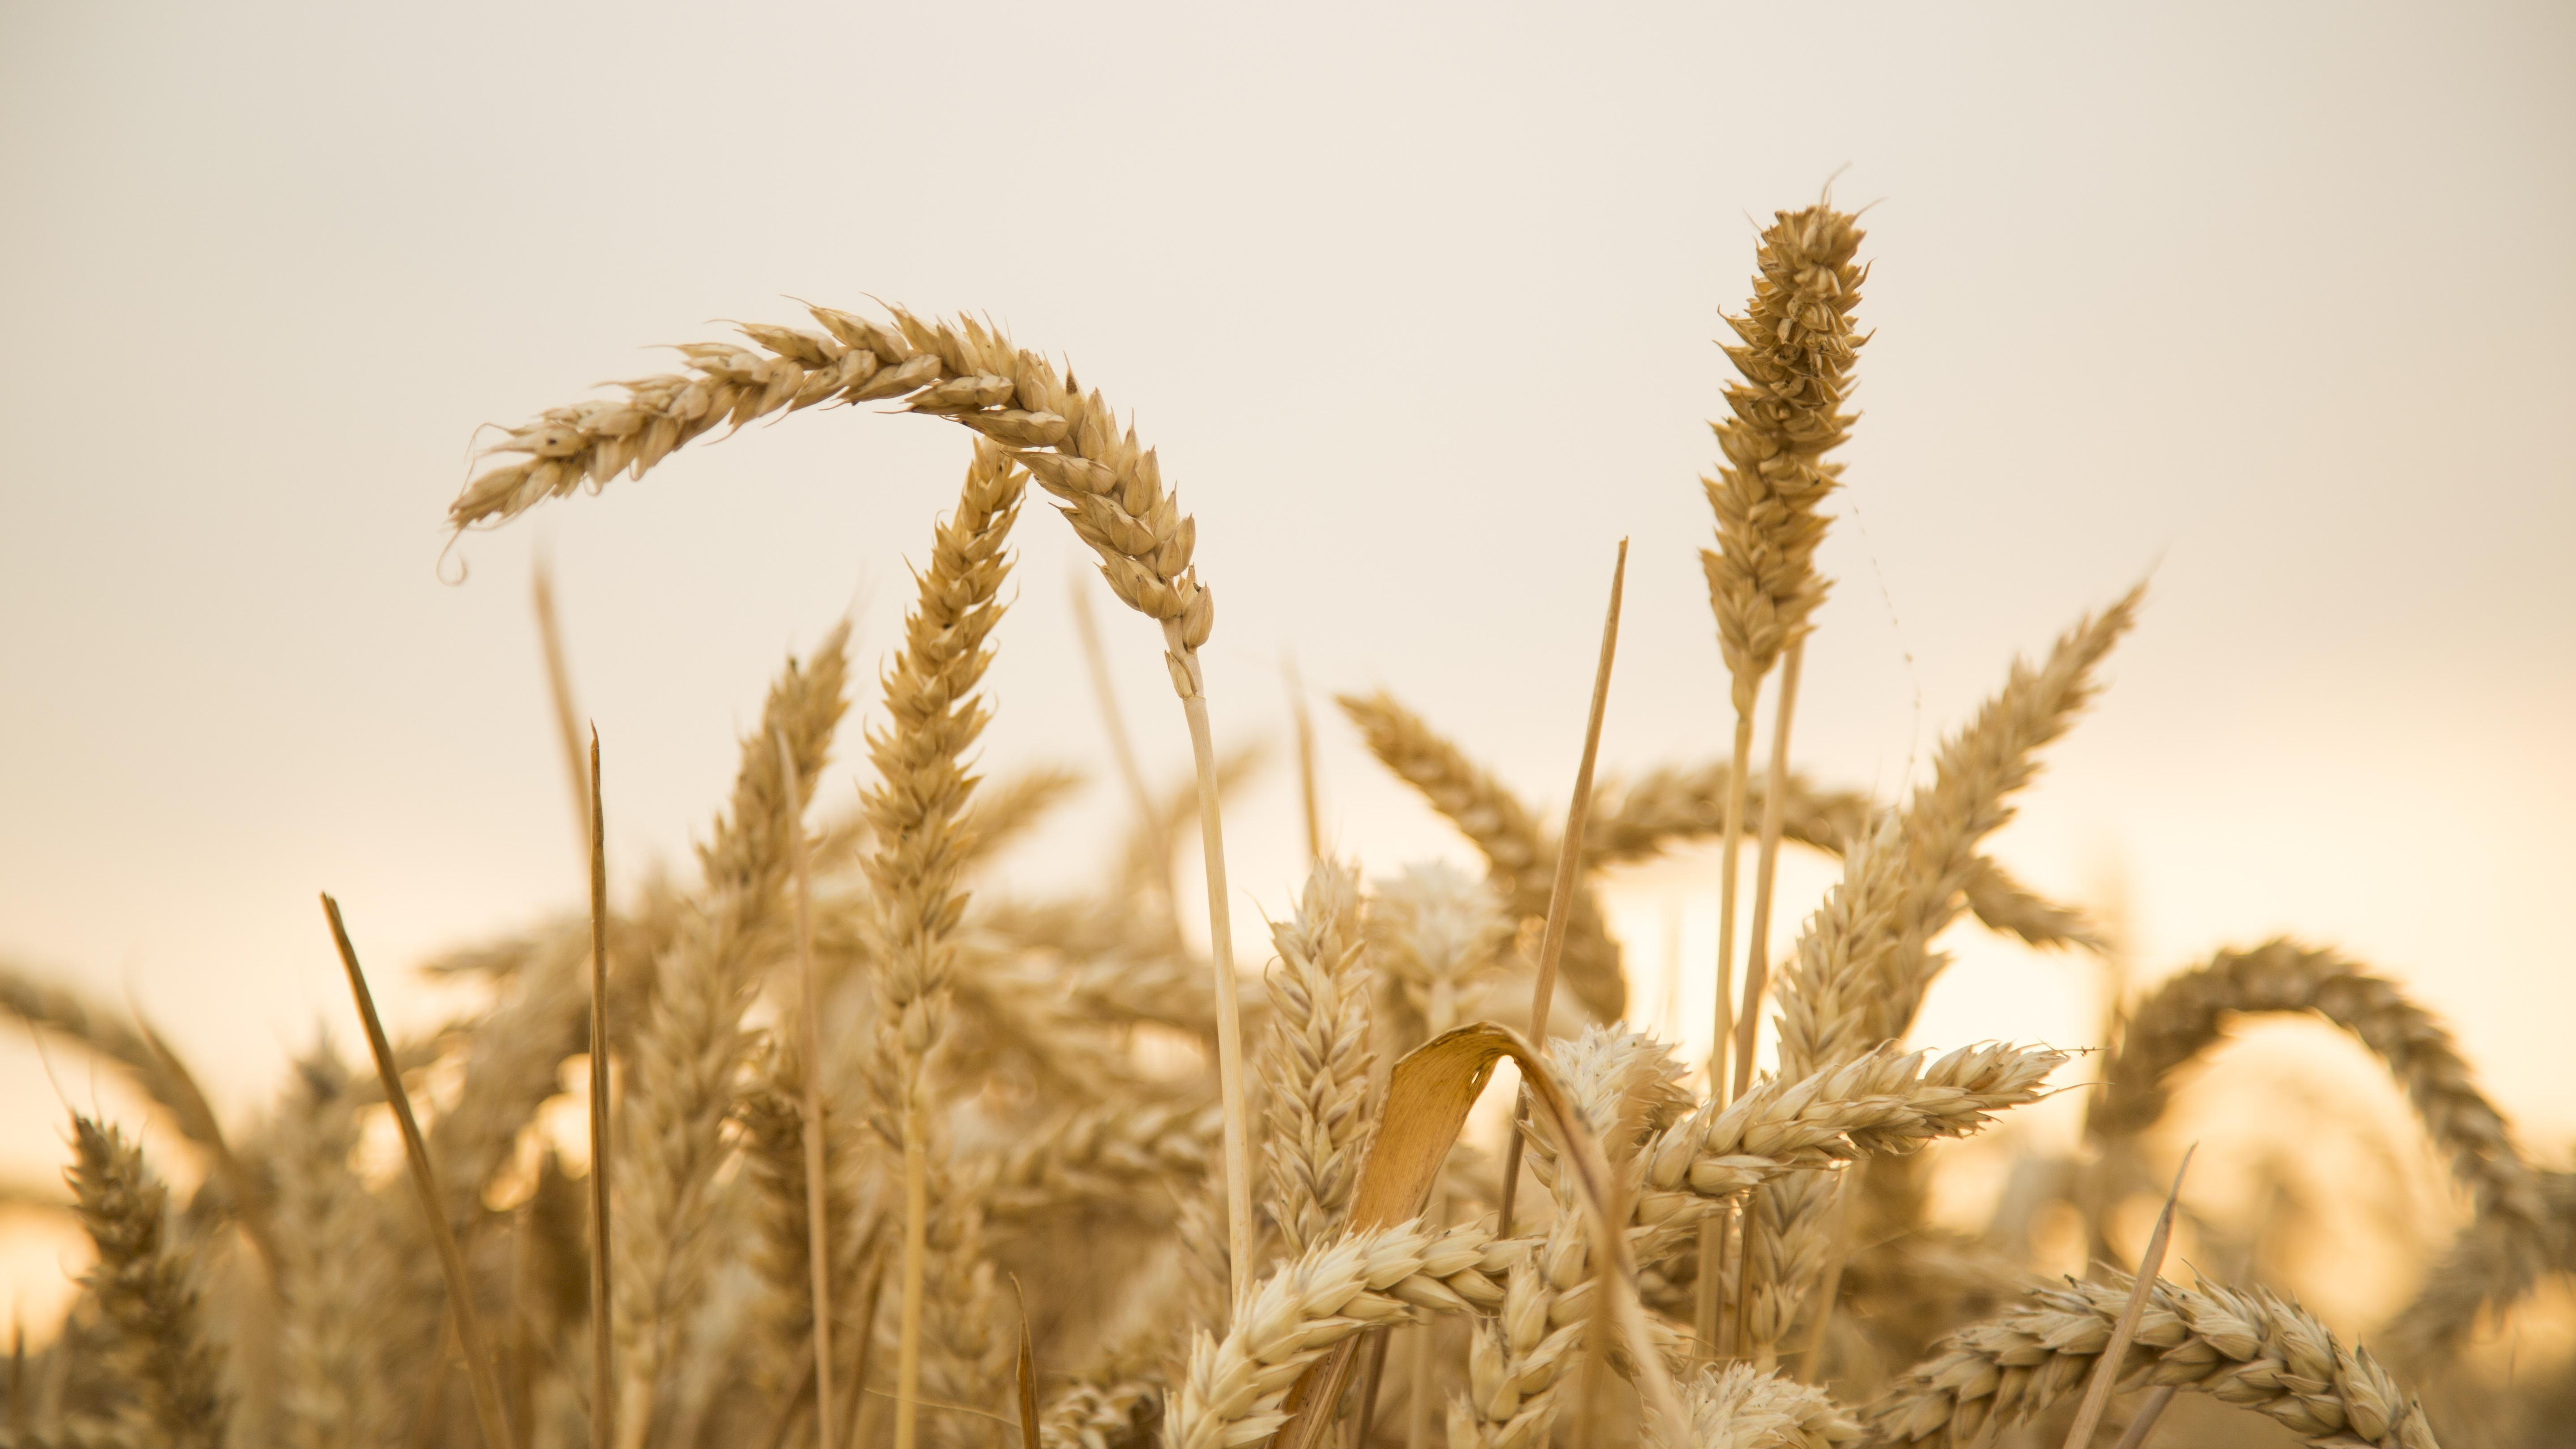wheat: (416, 288, 1214, 672), (855, 396, 1030, 1108), (1711, 147, 1868, 748)
